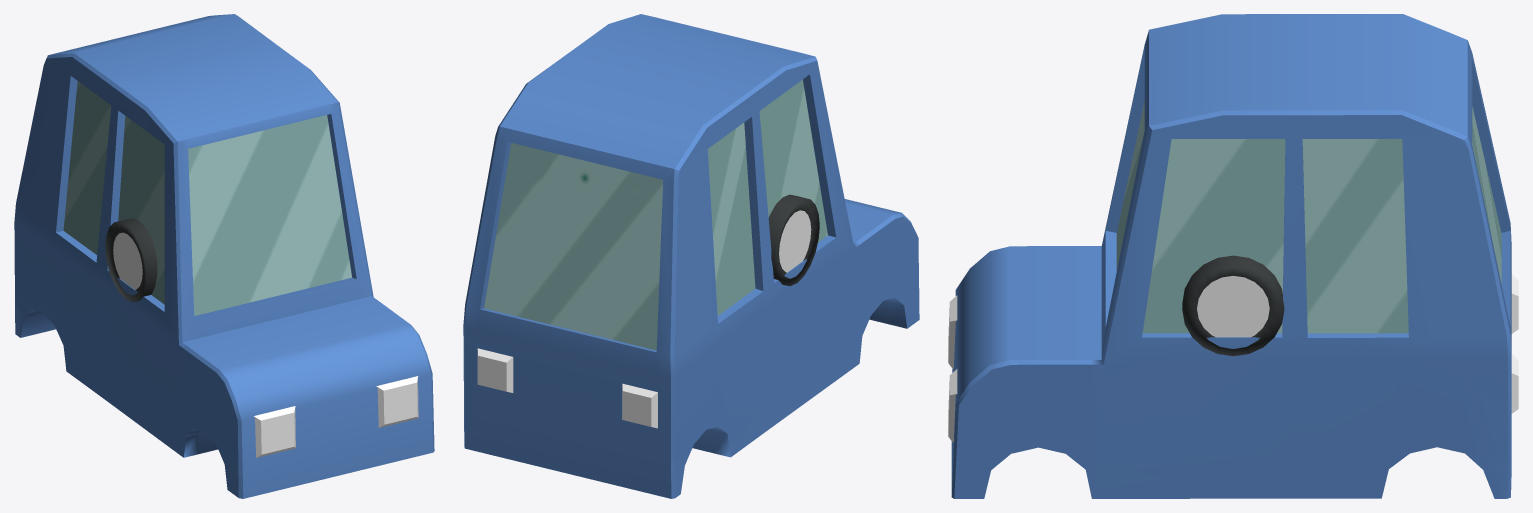
Rendered from car_1_B (1).fbx.
3 views of the same model, side by side, from view 1: azimuth 30°, elevation 25°; view 2: azimuth 150°, elevation 25°; view 3: azimuth 270°, elevation 25° (orthographic). The views are drawn at different scales.
Visible parts, largest first — view 1: car_1_chasis_B, car_1_right_wheel_B, car_1_back_wheel_B; view 2: car_1_chasis_B, car_1_right_wheel_B, car_1_back_wheel_B; view 3: car_1_chasis_B, car_1_back_wheel_B.
Boxes of the visible parts, x1,y1,x2,y2 form: car_1_chasis_B: (14,14,434,498); car_1_right_wheel_B: (105,219,157,302); car_1_back_wheel_B: (117,218,156,301); car_1_chasis_B: (463,14,919,498); car_1_right_wheel_B: (769,194,819,286); car_1_back_wheel_B: (768,195,797,276); car_1_chasis_B: (948,14,1518,498); car_1_back_wheel_B: (1182,255,1284,356).
Bounding box in the file's own units: 76.29 × 115 × 157.
